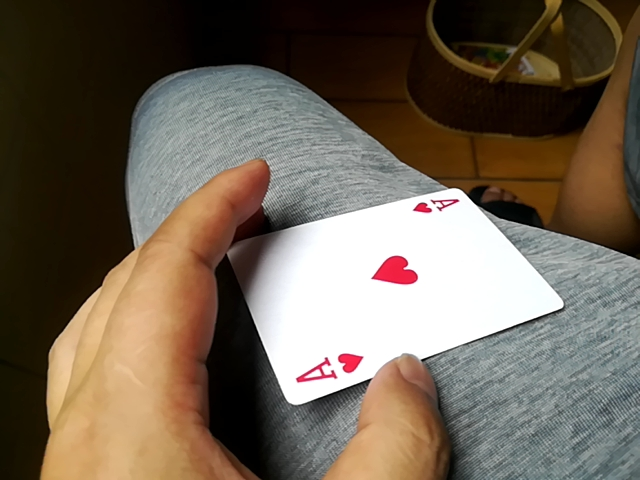hx a: (245, 183, 562, 408)
